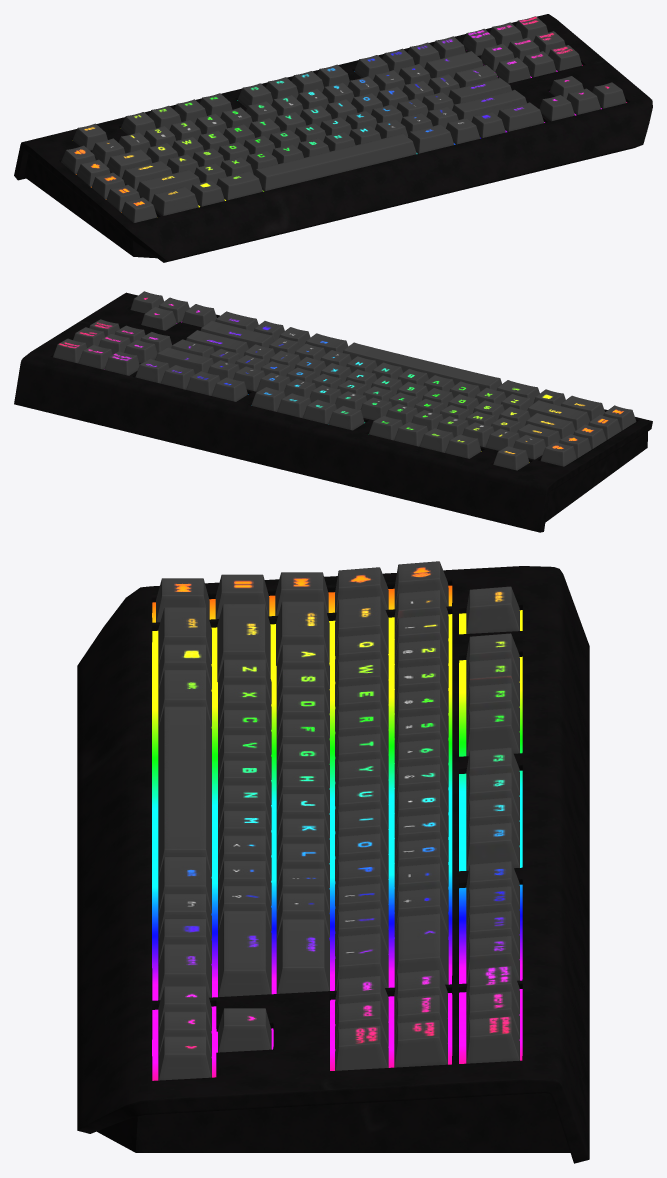
The model's file is gaming_keyboard.glb.
The picture shows the model from 3 angles, top to bottom: view 1: azimuth 30°, elevation 25°; view 2: azimuth 150°, elevation 25°; view 3: azimuth 270°, elevation 25°; orthographic projection. The views are drawn at different scales.
Visible parts, largest first — view 1: Plane004_13 - Default_0; view 2: Plane004_13 - Default_0; view 3: Plane004_13 - Default_0.
Part boxes in pixels (x1,y1,x2,y2): Plane004_13 - Default_0: (14,14,652,262); Plane004_13 - Default_0: (14,291,652,532); Plane004_13 - Default_0: (77,561,589,1163).
Size of the model in its own units: 34.86 by 3.38 by 14.7.
Materials: 1 (1 with a texture image).
